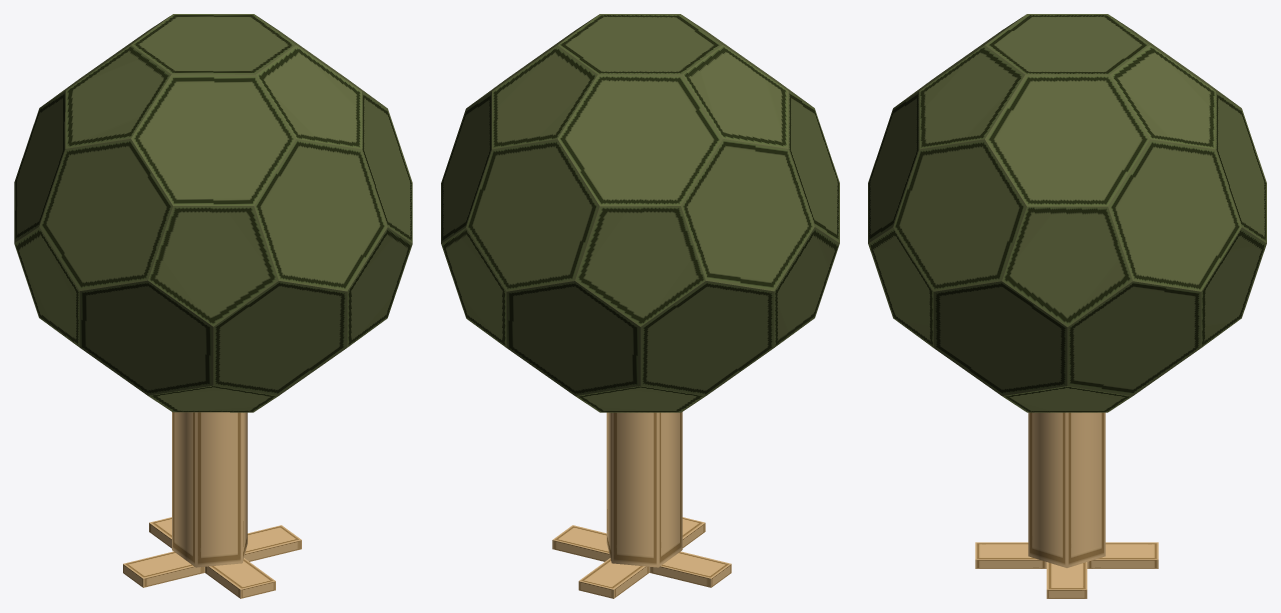
The model's file is Tree013.FBX.
The picture shows the model from 3 angles, left to right: view 1: azimuth 30°, elevation 25°; view 2: azimuth 150°, elevation 25°; view 3: azimuth 270°, elevation 25°; orthographic projection.
Parts seen in each view (by area): view 1: tree013; view 2: tree013; view 3: tree013.
Boxes of the visible parts, x1,y1,x2,y2 form: tree013: (14,14,412,598); tree013: (441,14,839,598); tree013: (868,14,1266,598).
Size of the model in its own units: 198 by 280 by 196.
Materials: 1 (1 with a texture image).
